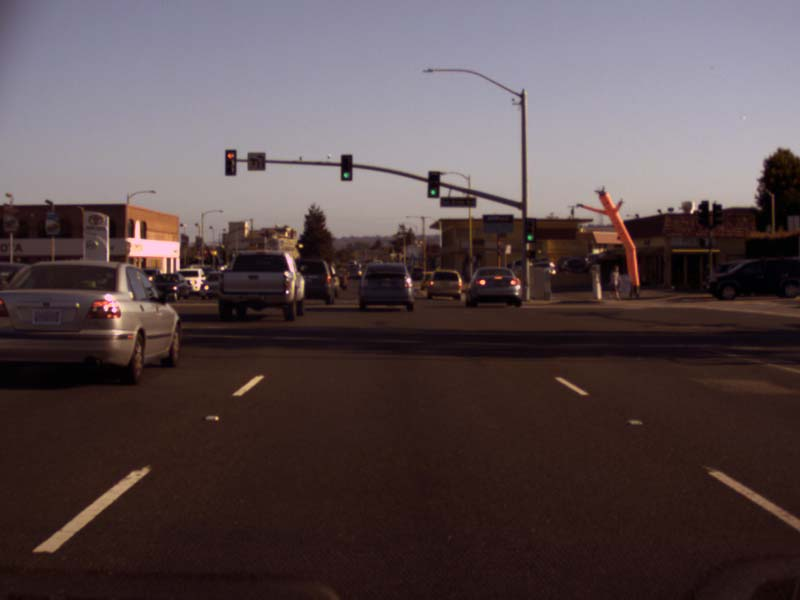Green: (340, 154, 353, 181), (427, 169, 439, 197), (525, 219, 534, 242)
Red: (224, 149, 236, 176)
